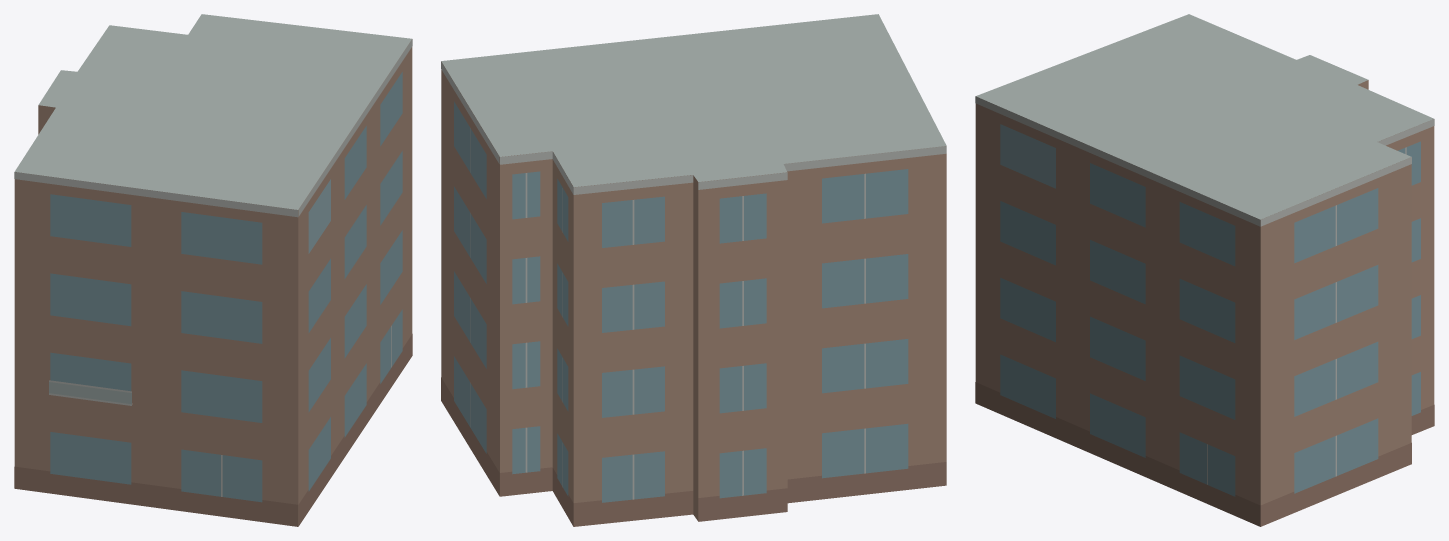
File: survey-upis-32595508.glb
The picture shows the model from 3 angles, left to right: view 1: azimuth 30°, elevation 25°; view 2: azimuth 150°, elevation 25°; view 3: azimuth 270°, elevation 25°; orthographic projection. The views are drawn at different scales.
Parts seen in each view (by area): view 1: survey-upis-32595508.tmp; view 2: survey-upis-32595508.tmp; view 3: survey-upis-32595508.tmp.
Part boxes in pixels (x1,y1,x2,y2): survey-upis-32595508.tmp: [14, 14, 412, 526]; survey-upis-32595508.tmp: [441, 14, 946, 526]; survey-upis-32595508.tmp: [975, 14, 1434, 526].
Size of the model in its own units: 15.23 by 10.6 by 14.36.
